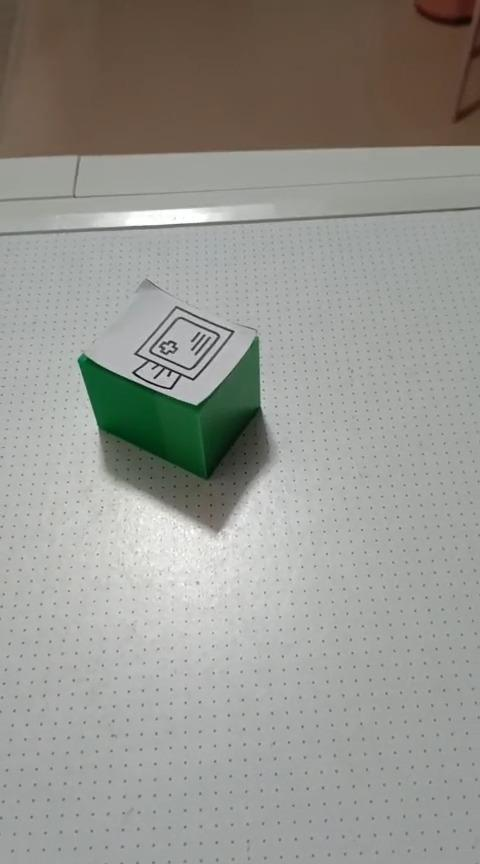Gauze: (76, 276, 262, 480)
